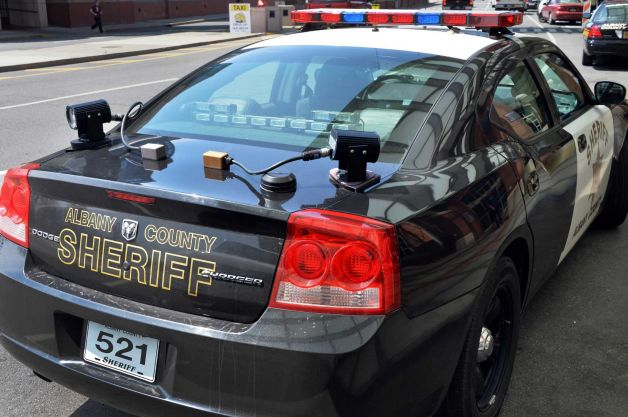license plate: (83, 317, 159, 388)
